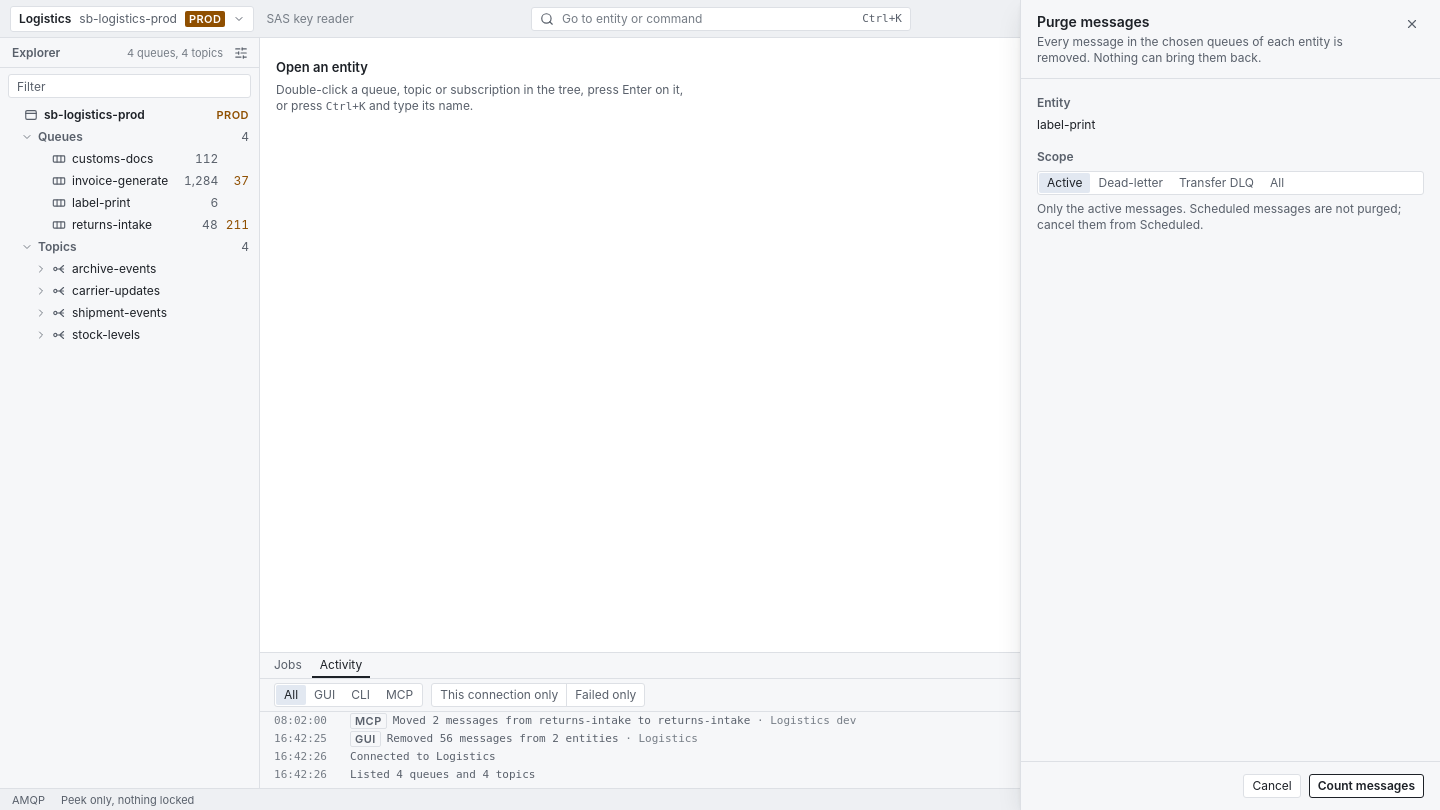
PurgeSheet › changing the scope drops the counts
(page scrolled)
Click the button "Count messages" at [1366, 786], box top-left (1309, 774), bottom-right (1424, 798)
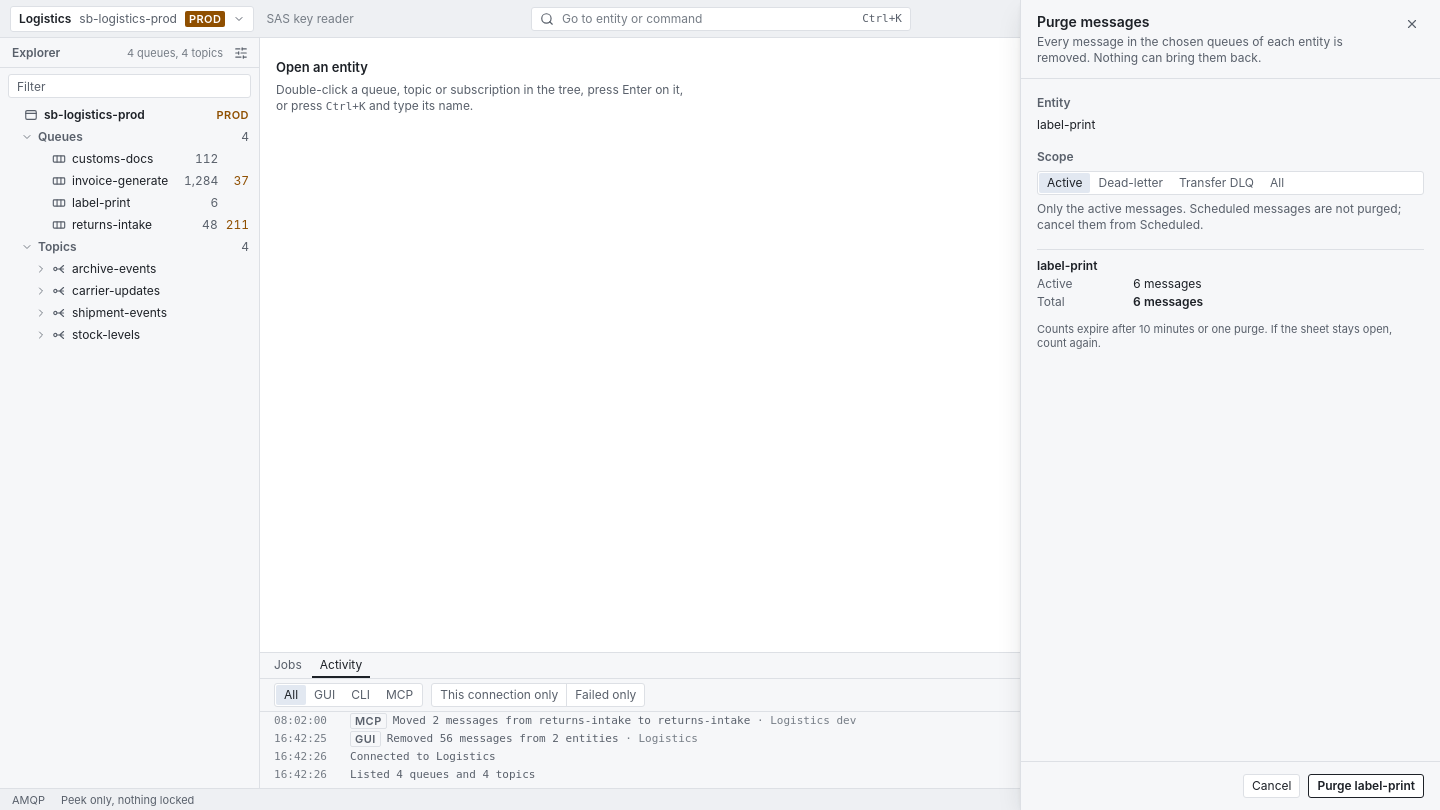
Expected: the element named "Plan for label-print" is shown, top-left (1037, 249), bottom-right (1424, 310)
Click the radio button labelled "Dead-letter" at [1131, 183], box top-left (1090, 173), bottom-right (1171, 193)
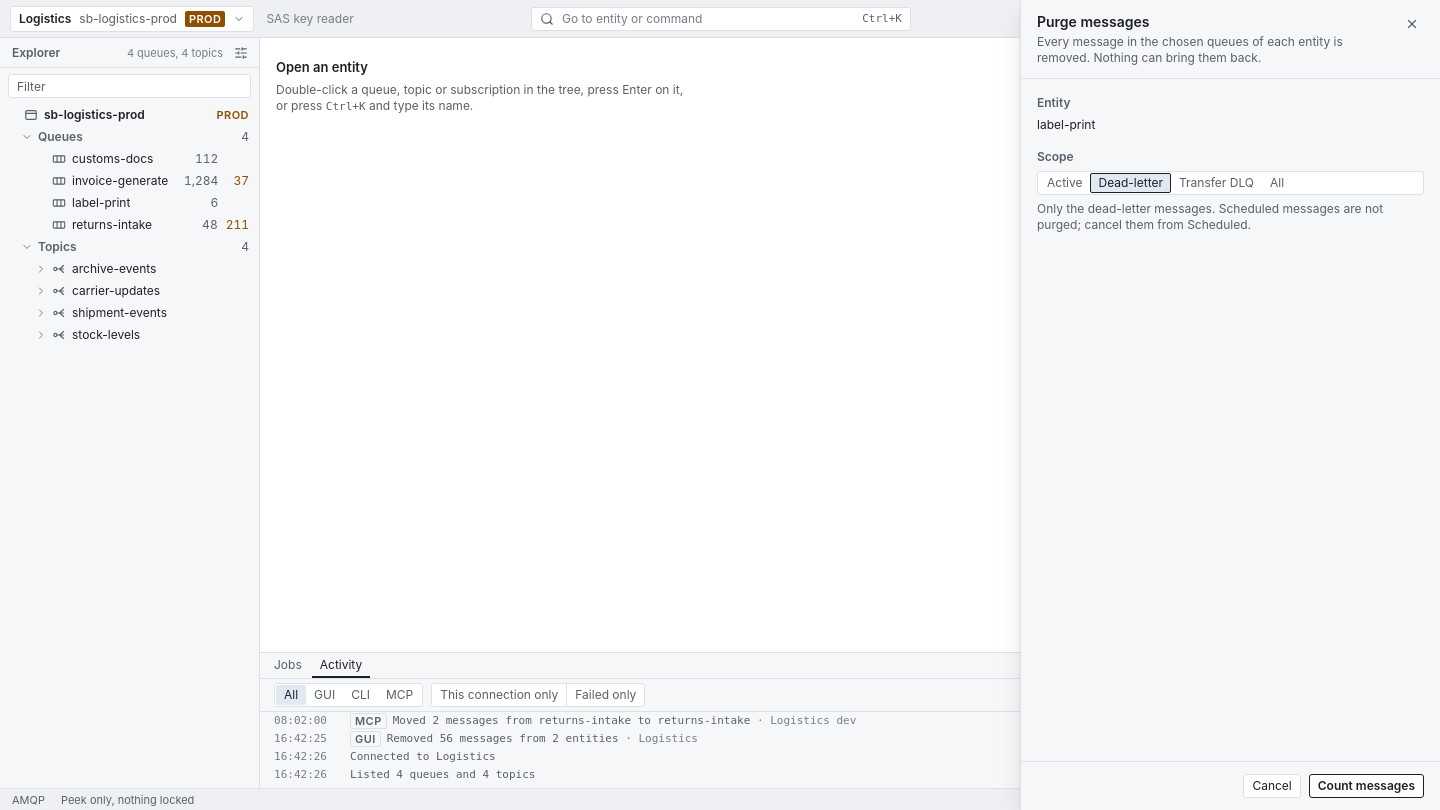
Expected: the button "Count messages" is shown, top-left (1309, 774), bottom-right (1424, 798)
